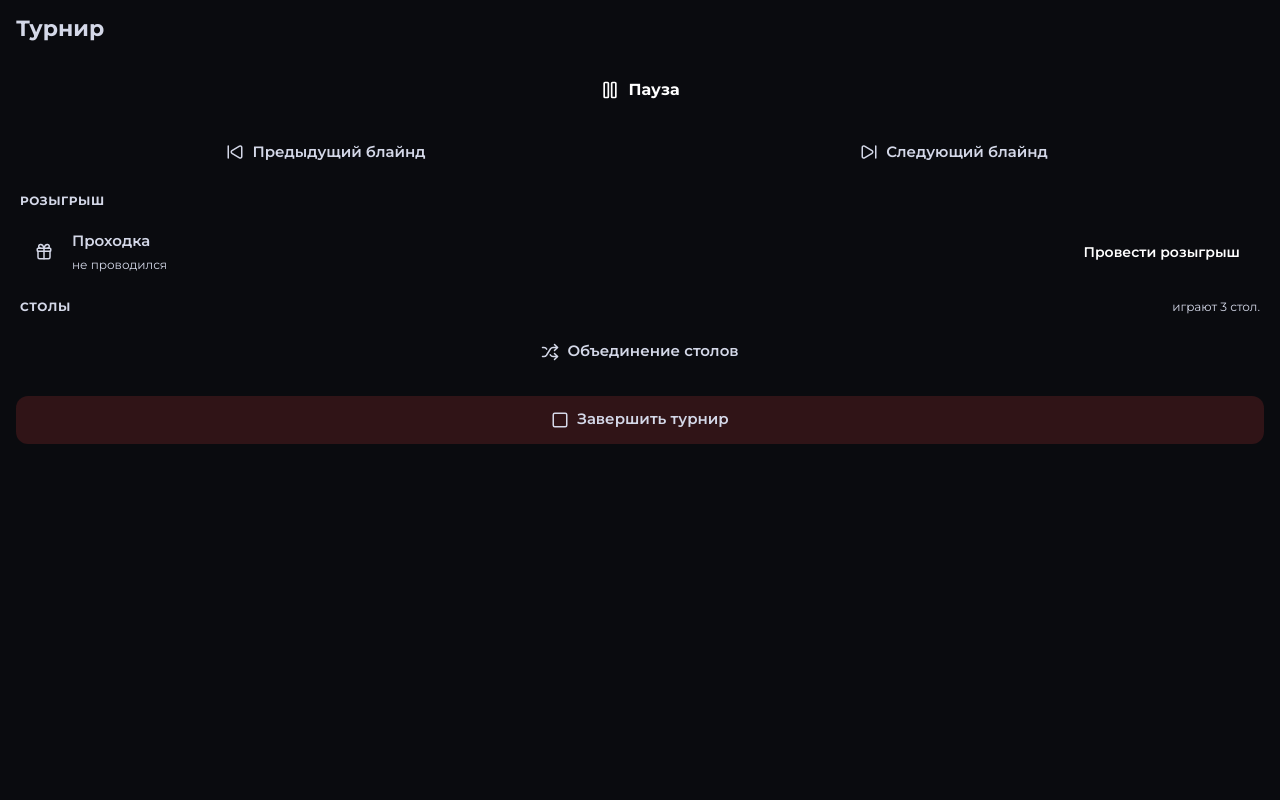
Test case: TMAControlPage › breaking a table up › asks which table to break, listing the tables in play
Click the button "Объединение столов": (640, 352) [16,328,1264,376]
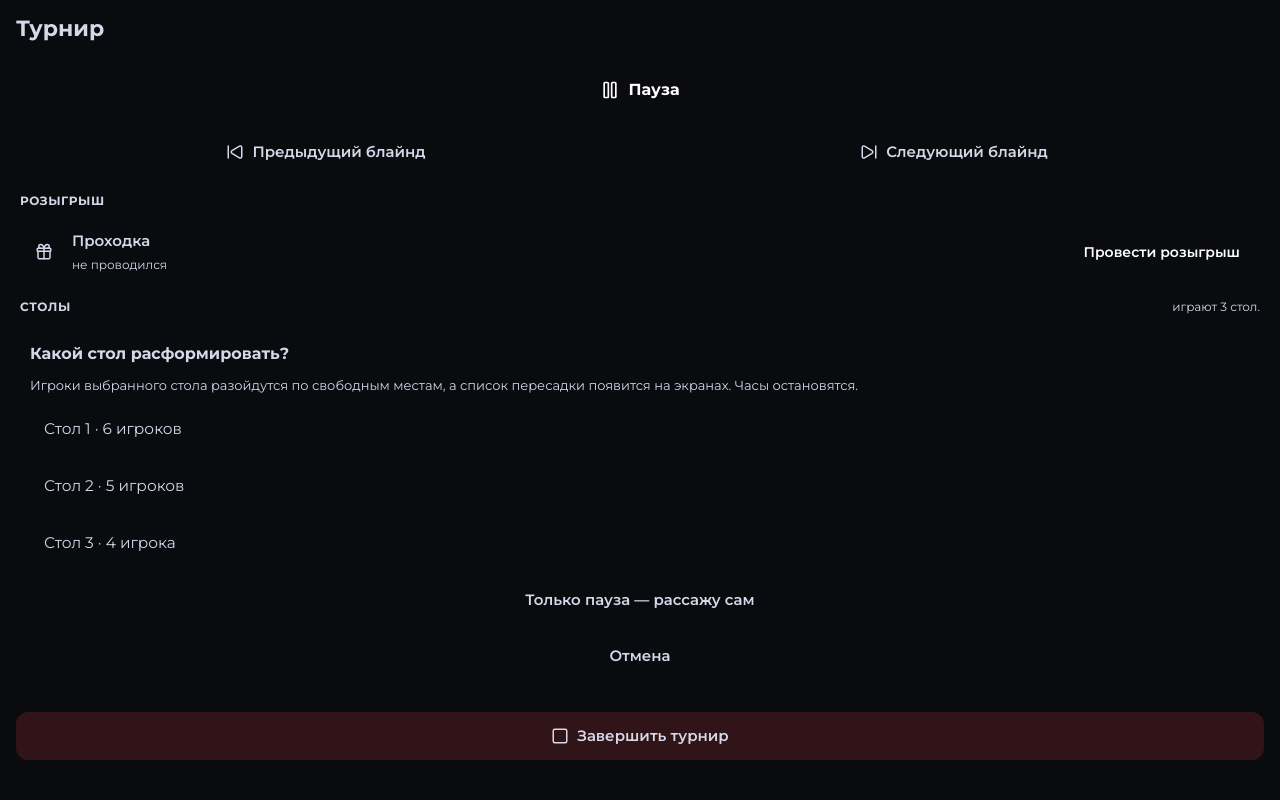
Result: the text "Какой стол расформировать?" is shown at [30,344,289,362]
Result: the button "Стол 1 · 6 игроков" is shown at [30,405,1250,452]
Result: the button "Стол 2 · 5 игроков" is shown at [30,462,1250,509]
